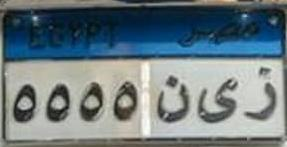5: (45, 82, 73, 122), (13, 82, 38, 122), (113, 83, 140, 119), (82, 81, 103, 120)
noon: (156, 73, 189, 122)
raa: (243, 81, 278, 122)
yaa: (197, 77, 238, 125)
